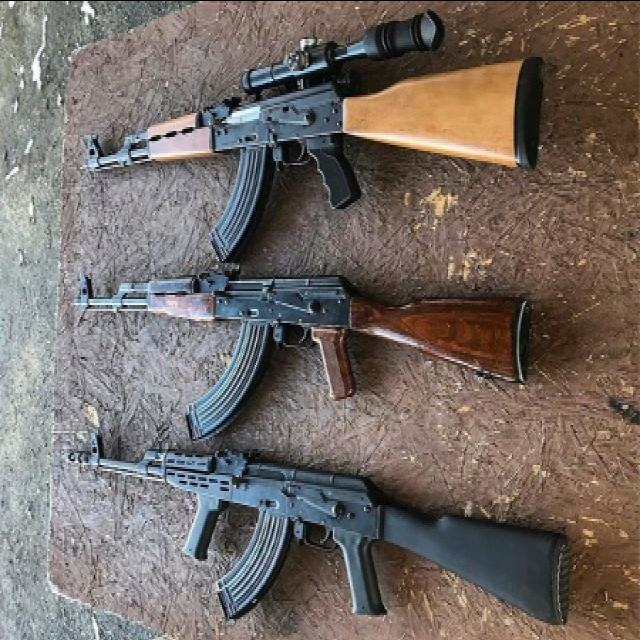rifle: (58, 11, 544, 241), (54, 437, 586, 639), (42, 255, 554, 441)
